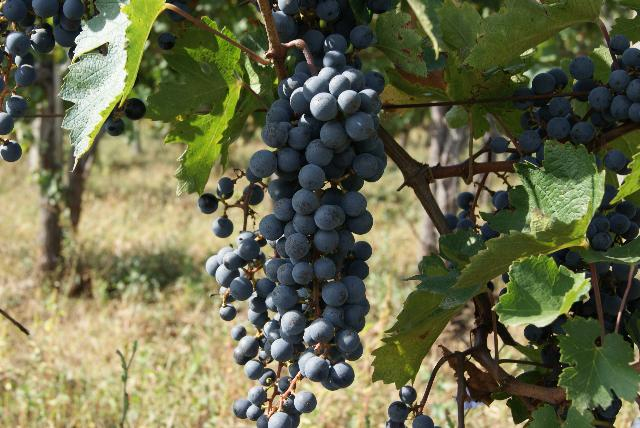grapes: (250, 32, 386, 389), (198, 169, 325, 428)
